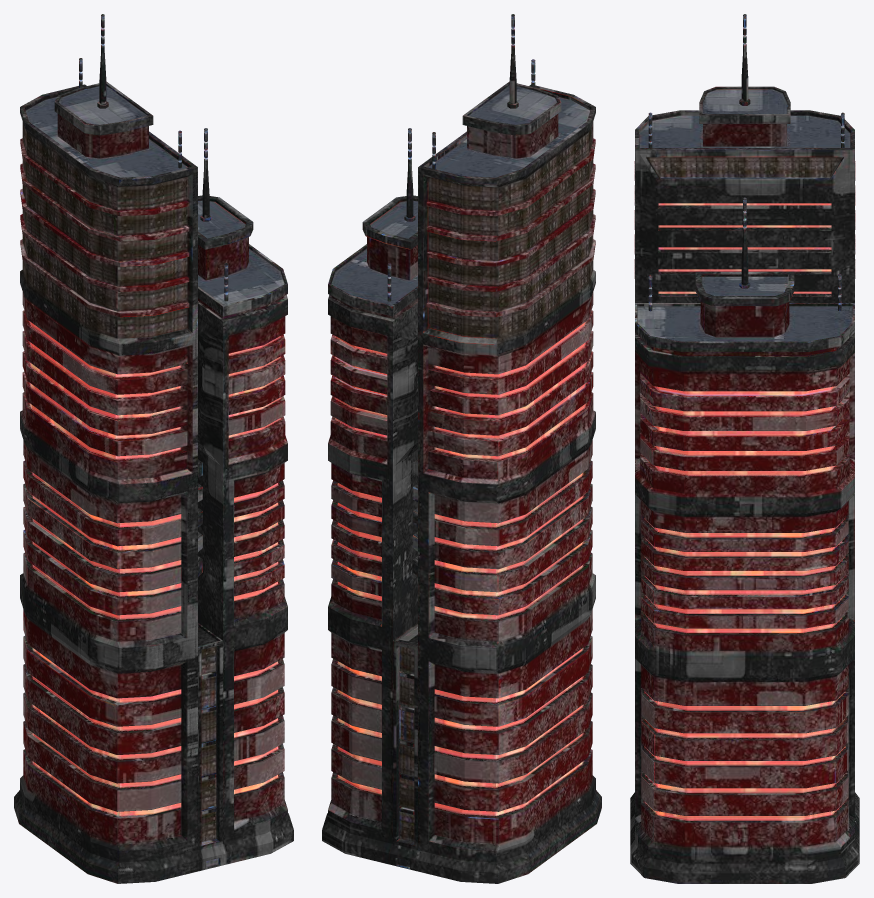
Rendered from glowing-industrial-building.glb.
The picture shows the model from 3 angles, left to right: view 1: azimuth 30°, elevation 25°; view 2: azimuth 150°, elevation 25°; view 3: azimuth 270°, elevation 25°; orthographic projection. The views are drawn at different scales.
Visible parts, largest first — view 1: glowing-industrial-building; view 2: glowing-industrial-building; view 3: glowing-industrial-building.
Part boxes in pixels (left/top/right/bottom): glowing-industrial-building: left=14, top=14, right=293, bottom=883; glowing-industrial-building: left=322, top=14, right=601, bottom=883; glowing-industrial-building: left=630, top=14, right=859, bottom=883.
Bounding box in the file's own units: 120 × 469 × 122.
Materials: 1 (1 with a texture image).
